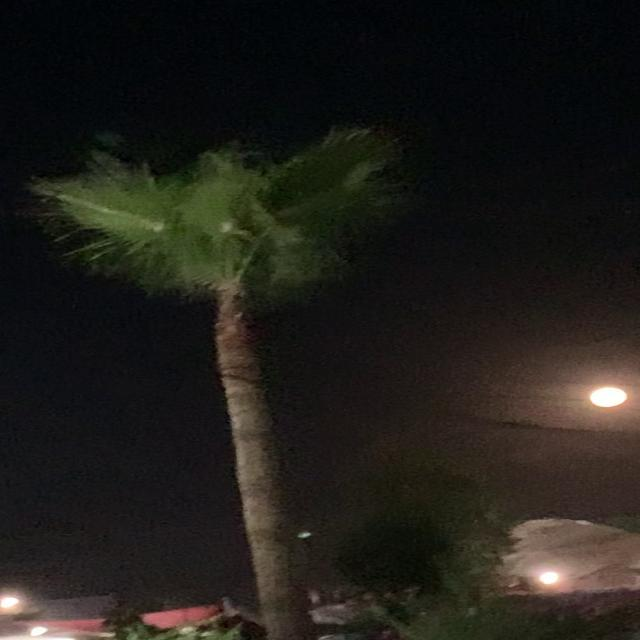moon: (582, 385, 640, 413)
